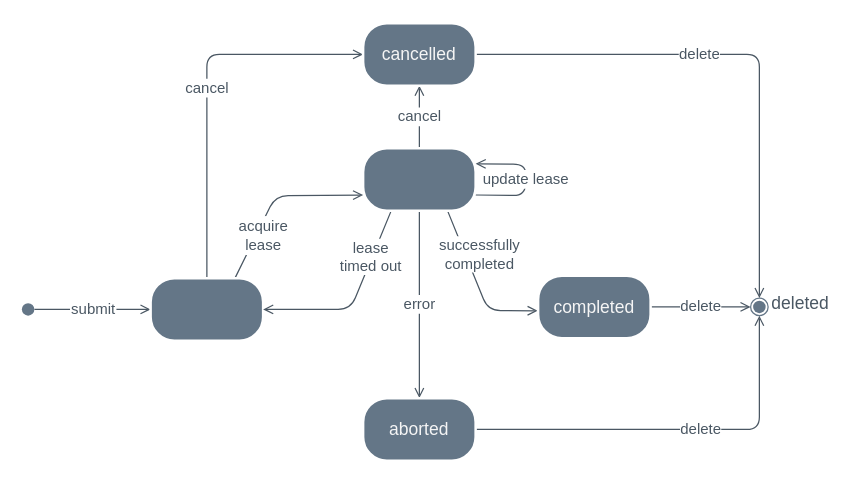
This 850x483 diagram has some shape labels left out. Here are the shapes that lost their labels. From the top down, the centre of each, then its label:
the point at 418,178: running
the point at 206,308: ready
